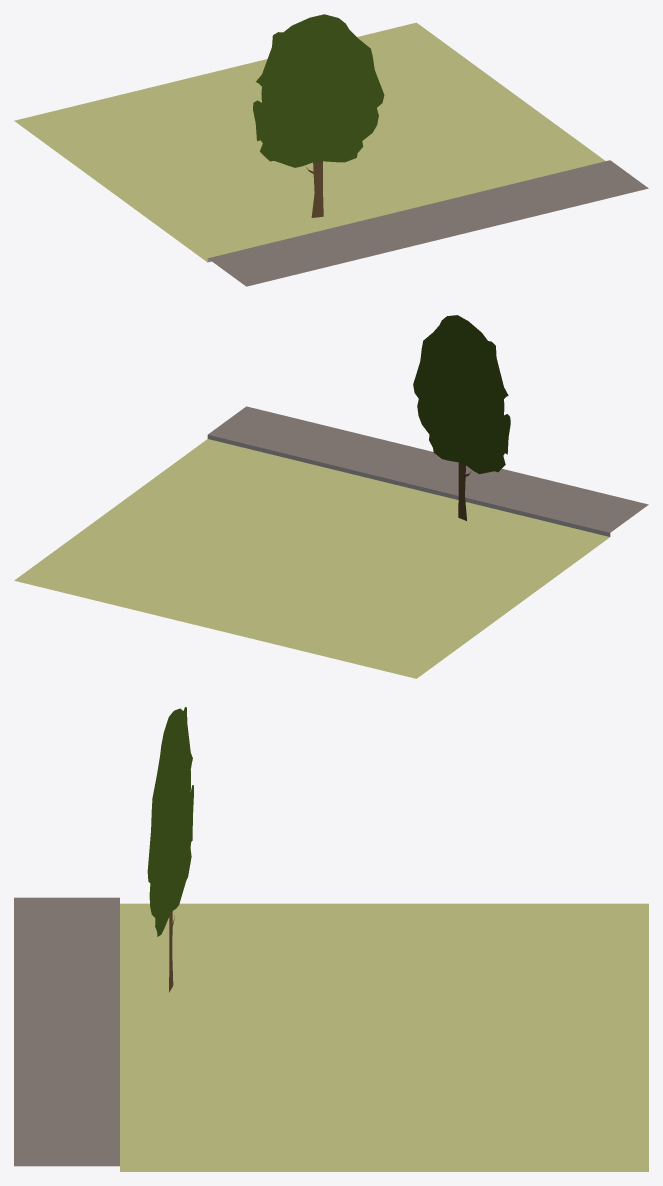
Rendered from wwrr.obj.
The picture shows the model from 3 angles, top to bottom: view 1: azimuth 30°, elevation 25°; view 2: azimuth 150°, elevation 25°; view 3: azimuth 270°, elevation 25°; orthographic projection. The views are drawn at different scales.
Parts seen in each view (by area): view 1: wwrr; view 2: wwrr; view 3: wwrr.
Part boxes in pixels (bbox=[...]): wwrr: bbox=[14, 14, 648, 286]; wwrr: bbox=[14, 315, 648, 678]; wwrr: bbox=[14, 707, 648, 1171].
Size of the model in its own units: 30 by 14.41 by 30.
